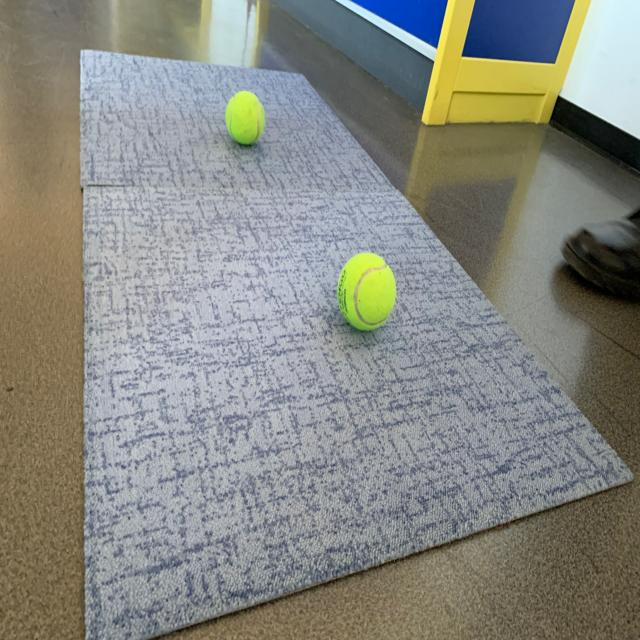Tennis-Ball: (332, 248, 403, 342), (221, 88, 267, 151)
